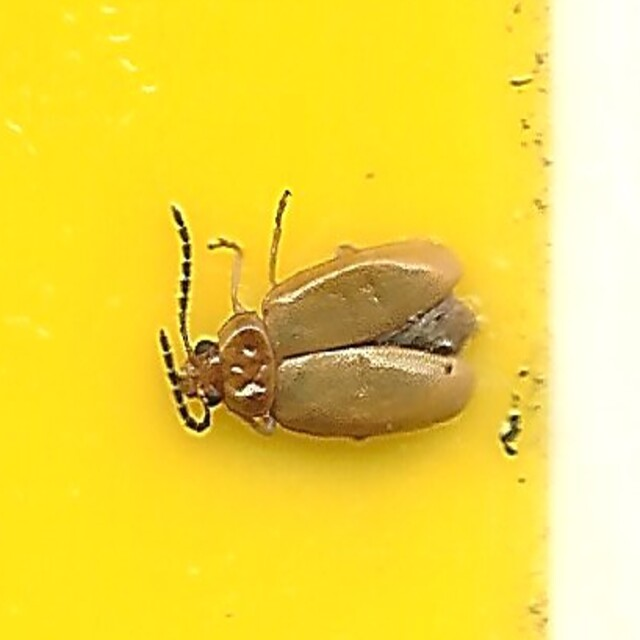Coleoptera: (156, 192, 484, 448)
